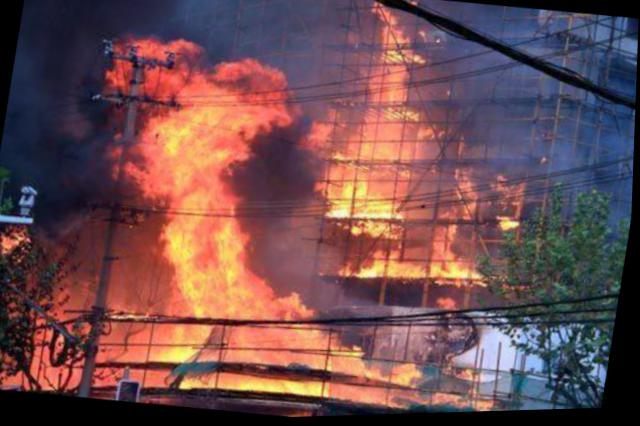fire: (141, 114, 256, 183), (157, 208, 257, 279), (166, 267, 277, 326), (180, 90, 295, 134), (227, 314, 337, 355), (354, 103, 421, 168), (214, 58, 289, 104), (225, 344, 330, 374), (222, 370, 327, 399), (171, 174, 238, 219), (147, 63, 216, 105), (332, 191, 407, 226), (358, 255, 428, 285), (154, 320, 217, 349), (303, 106, 342, 151), (428, 256, 488, 285), (374, 61, 414, 103), (271, 291, 317, 323), (334, 384, 395, 408), (354, 219, 408, 244), (458, 172, 484, 222), (332, 343, 370, 373), (368, 171, 406, 200), (138, 171, 174, 201), (435, 224, 463, 261), (155, 343, 203, 364), (344, 167, 374, 199), (174, 37, 203, 70), (384, 47, 425, 69), (392, 389, 433, 411), (3, 227, 36, 254), (142, 35, 174, 59), (396, 364, 427, 388), (110, 61, 134, 91), (364, 362, 396, 382), (186, 372, 219, 391), (438, 392, 474, 409), (326, 165, 345, 196), (383, 26, 410, 46), (499, 218, 524, 235), (419, 126, 439, 143), (379, 10, 399, 24), (482, 402, 501, 414)
